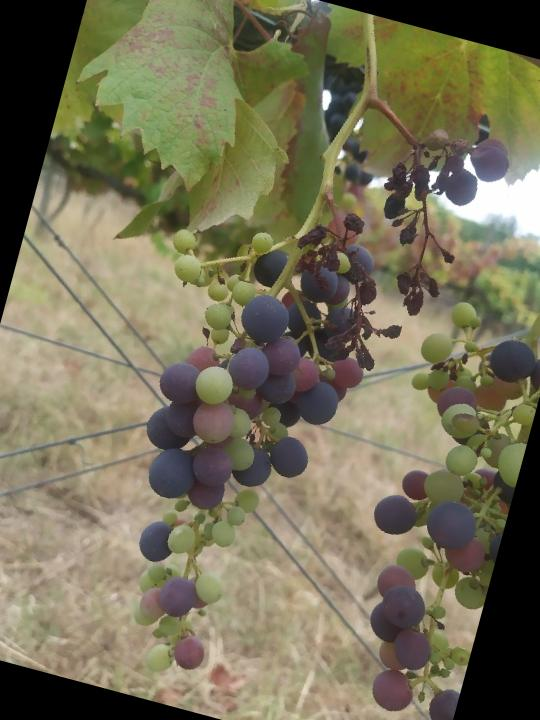grape: (58, 170, 428, 714), (345, 109, 515, 333)
